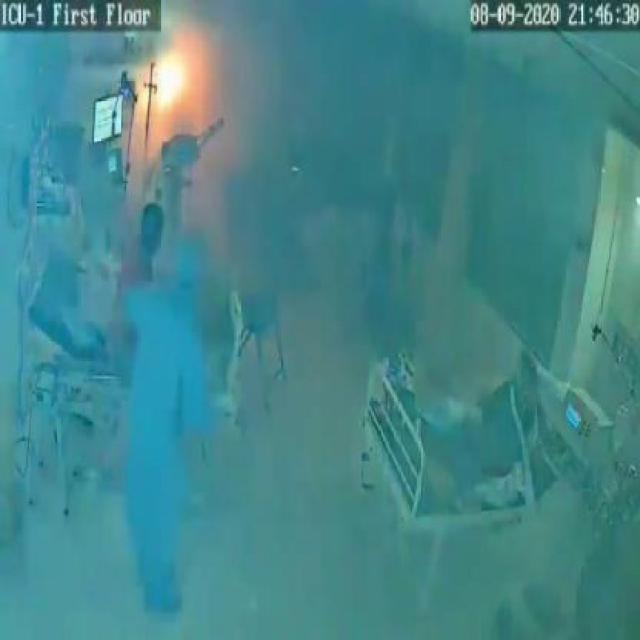fire: (128, 40, 242, 156)
